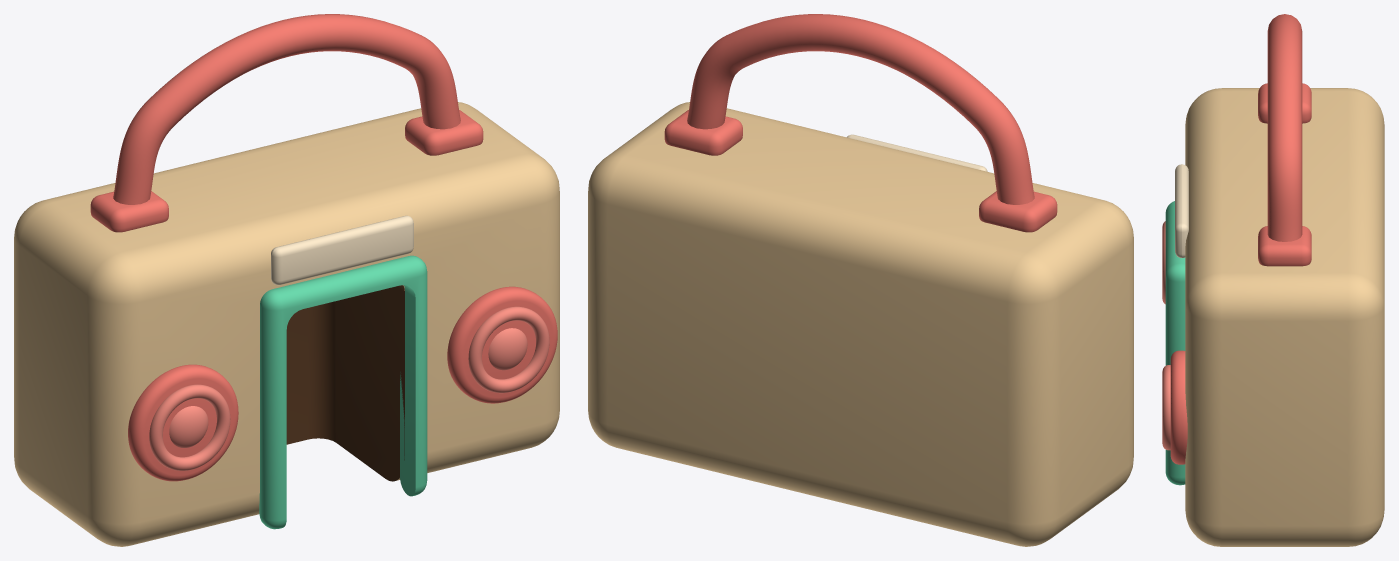
The model's file is rhythm-boombox.glb.
3 renders of one model, left to right at view 1: azimuth 30°, elevation 25°; view 2: azimuth 150°, elevation 25°; view 3: azimuth 270°, elevation 25°, orthographic. The views are drawn at different scales.
Visible parts, largest first — view 1: Boombox body, Boombox handle, Boombox door rim, Boombox speaker, Boombox speaker.003, Boombox sign plate, Boombox speaker.001, Boombox speaker.004, Boombox handle foot, Boombox handle foot.001, Boombox speaker.002, Boombox speaker.005; view 2: Boombox body, Boombox handle, Boombox handle foot, Boombox handle foot.001, Boombox sign plate; view 3: Boombox body, Boombox handle, Boombox door rim, Boombox speaker.003, Boombox handle foot.001, Boombox sign plate, Boombox speaker.004, Boombox handle foot, Boombox speaker.001.
Boxes of the visible parts, <box> form: Boombox body: <box>14,102,559,546</box>; Boombox handle: <box>113,14,460,204</box>; Boombox door rim: <box>259,255,427,529</box>; Boombox speaker: <box>128,364,238,481</box>; Boombox speaker.003: <box>447,286,557,403</box>; Boombox sign plate: <box>271,215,413,285</box>; Boombox speaker.001: <box>149,384,230,470</box>; Boombox speaker.004: <box>468,306,549,393</box>; Boombox handle foot: <box>90,191,168,232</box>; Boombox handle foot.001: <box>405,110,483,155</box>; Boombox speaker.002: <box>169,406,208,447</box>; Boombox speaker.005: <box>488,328,527,370</box>; Boombox body: <box>588,102,1133,546</box>; Boombox handle: <box>687,14,1034,204</box>; Boombox handle foot: <box>979,191,1057,232</box>; Boombox handle foot.001: <box>664,110,742,155</box>; Boombox sign plate: <box>847,134,987,171</box>; Boombox body: <box>1185,88,1384,546</box>; Boombox handle: <box>1267,14,1302,241</box>; Boombox door rim: <box>1165,201,1185,485</box>; Boombox speaker.003: <box>1170,350,1187,464</box>; Boombox handle foot.001: <box>1258,226,1311,266</box>; Boombox sign plate: <box>1175,164,1188,257</box>; Boombox speaker.004: <box>1162,365,1170,450</box>; Boombox handle foot: <box>1258,83,1311,123</box>; Boombox speaker.001: <box>1162,221,1165,304</box>.
Size of the model in its own units: 5.8 by 5.32 by 2.57.
